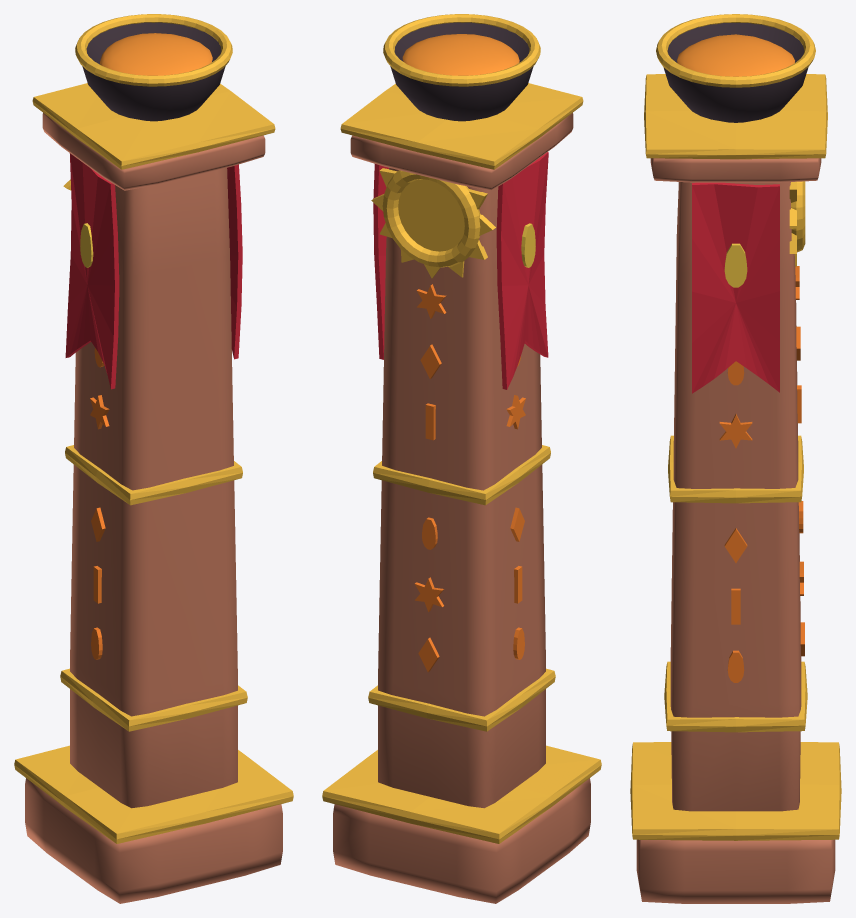
The model's file is RopeTower.obj.
3 renders of one model, left to right at view 1: azimuth 30°, elevation 25°; view 2: azimuth 150°, elevation 25°; view 3: azimuth 270°, elevation 25°, orthographic.
Visible parts, largest first — view 1: Stone, Trim, Cloth, Metal, Coals, Glow; view 2: Stone, Trim, Cloth, Metal, Glow, Coals; view 3: Stone, Trim, Cloth, Metal, Coals, Glow, Emblem.
Boxes of the visible parts, box(x1,y1,x2,y2) form: Stone: box(25, 113, 282, 903); Trim: box(14, 14, 293, 843); Cloth: box(65, 153, 242, 389); Metal: box(82, 22, 225, 121); Coals: box(100, 33, 212, 75); Glow: box(90, 348, 109, 659); Stone: box(333, 113, 590, 903); Trim: box(322, 14, 601, 843); Cloth: box(373, 152, 548, 389); Metal: box(390, 22, 533, 121); Glow: box(415, 284, 525, 672); Coals: box(402, 34, 519, 75); Stone: box(636, 158, 835, 903); Trim: box(630, 14, 841, 840); Cloth: box(692, 182, 779, 393); Metal: box(664, 23, 807, 122); Coals: box(677, 34, 794, 76); Glow: box(719, 266, 804, 682); Emblem: box(724, 243, 747, 287).
Size of the model in its own units: 10.1 by 43.33 by 10.1.
